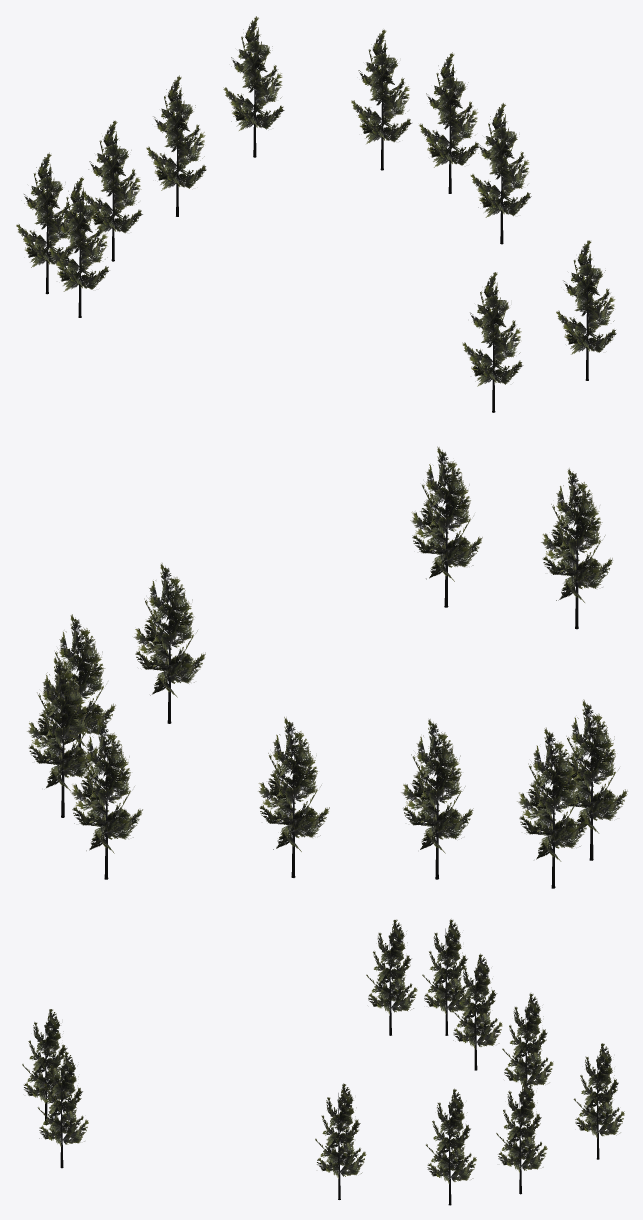
The model's file is trees_motion_.fbx.
3 renders of one model, top to bottom at view 1: azimuth 30°, elevation 25°; view 2: azimuth 150°, elevation 25°; view 3: azimuth 270°, elevation 25°, orthographic. The views are drawn at different scales.
Parts seen in each view (by area): view 1: polySurface2, polySurface67, polySurface180; view 2: polySurface2, polySurface67, polySurface180; view 3: polySurface2, polySurface67, polySurface180.
Boxes of the visible parts, x1=… form: polySurface2: x1=16, y1=16, x2=284, y2=317; polySurface67: x1=351, y1=29, x2=531, y2=244; polySurface180: x1=462, y1=240, x2=616, y2=412; polySurface2: x1=70, y1=699, x2=627, y2=888; polySurface67: x1=27, y1=563, x2=205, y2=817; polySurface180: x1=410, y1=446, x2=612, y2=629; polySurface2: x1=366, y1=919, x2=624, y2=1159; polySurface67: x1=315, y1=1078, x2=547, y2=1205; polySurface180: x1=22, y1=1009, x2=88, y2=1168.
Size of the model in its own units: 6871 by 1951 by 9059.
Materials: 2 (1 with a texture image).
